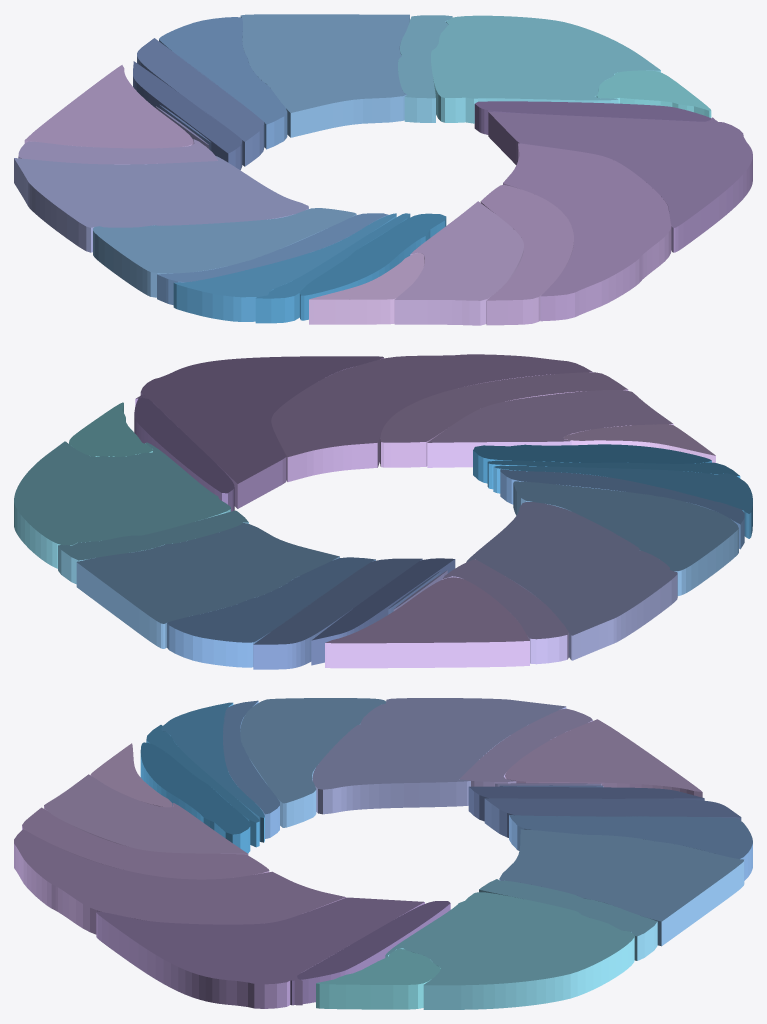
File: microsoft.glb
3 views of the same model, one above another, from view 1: azimuth 30°, elevation 25°; view 2: azimuth 150°, elevation 25°; view 3: azimuth 270°, elevation 25° (orthographic).
Parts seen in each view (by area): view 1: Node8, Node7, Node6, Node1, Node5, Node2, Node3, Node11, Node4, Node9, Node14, Node12 (+9 smaller); view 2: Node6, Node8, Node5, Node1, Node7, Node4, Node2, Node3, Node9, Node11, Node12, Node16 (+9 smaller); view 3: Node5, Node7, Node6, Node8, Node1, Node2, Node3, Node4, Node9, Node11, Node20, Node12 (+9 smaller).
Part boxes in pixels (x1,y1,x2,y2): Node8: [503, 143, 671, 321]; Node7: [488, 112, 752, 252]; Node6: [14, 156, 308, 252]; Node1: [240, 14, 409, 137]; Node5: [431, 15, 660, 123]; Node2: [93, 208, 356, 297]; Node3: [394, 201, 523, 325]; Node11: [480, 185, 573, 325]; Node4: [24, 65, 193, 148]; Node9: [159, 17, 287, 149]; Node14: [173, 213, 396, 321]; Node12: [137, 38, 264, 166]; Node6: [466, 501, 677, 660]; Node8: [271, 354, 592, 481]; Node5: [14, 441, 230, 568]; Node1: [76, 523, 339, 648]; Node7: [135, 356, 383, 508]; Node4: [325, 577, 529, 668]; Node2: [513, 481, 738, 595]; Node3: [427, 390, 673, 467]; Node9: [167, 557, 375, 667]; Node11: [380, 372, 628, 467]; Node12: [253, 558, 422, 669]; Node16: [442, 559, 568, 664]; Node5: [385, 892, 634, 1009]; Node7: [96, 897, 424, 1008]; Node6: [312, 698, 566, 814]; Node8: [14, 829, 345, 934]; Node1: [499, 829, 744, 946]; Node2: [240, 698, 385, 827]; Node3: [44, 774, 248, 855]; Node4: [505, 719, 702, 797]; Node9: [509, 815, 752, 880]; Node11: [22, 807, 269, 879]; Node20: [316, 949, 440, 1009]; Node12: [484, 798, 741, 837].
Bounding box in the file's own units: 100 × 4 × 109.
